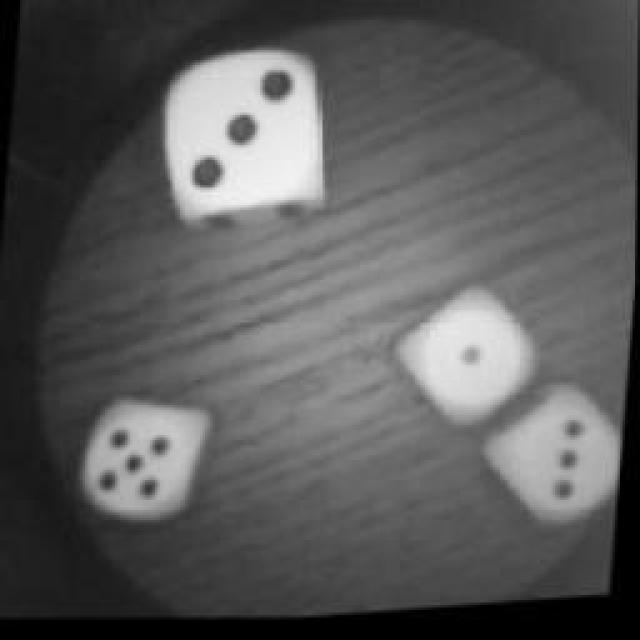dice_1: (394, 282, 554, 446)
dice_3: (156, 39, 339, 231), (486, 388, 629, 544)
dice_5: (68, 388, 212, 538)
